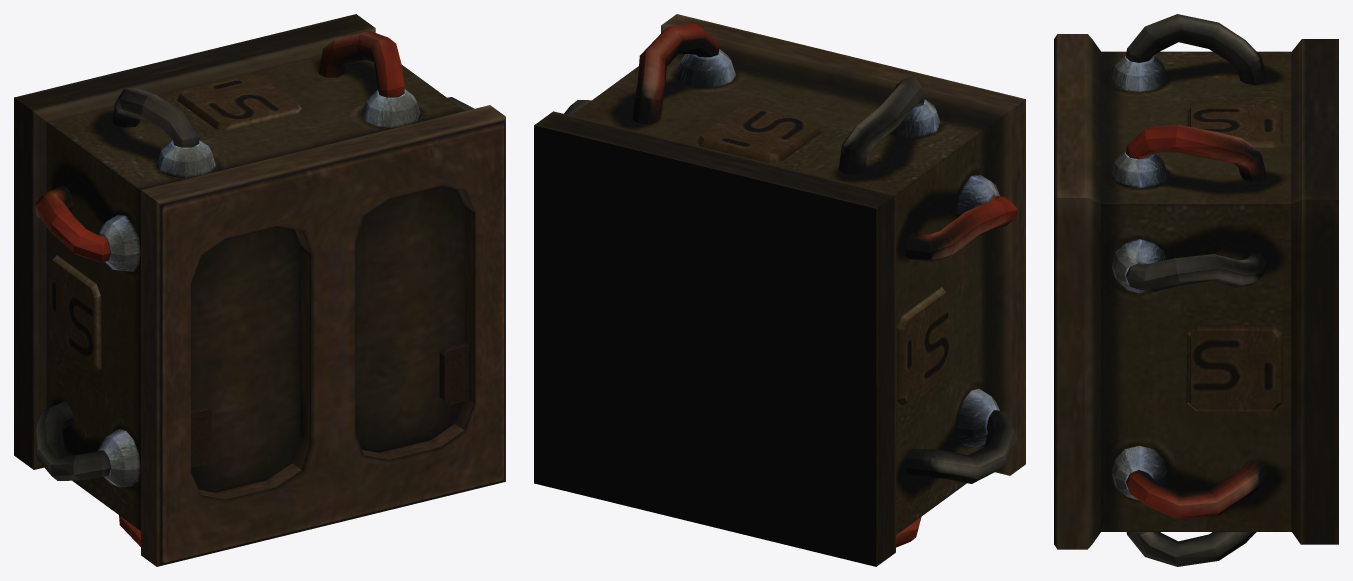
The model's file is b_batt0.obj.
The picture shows the model from 3 angles, left to right: view 1: azimuth 30°, elevation 25°; view 2: azimuth 150°, elevation 25°; view 3: azimuth 270°, elevation 25°; orthographic projection. The views are drawn at different scales.
Bounding box in the file's own units: 31.81 × 31.81 × 18.68.
Materials: 1 (1 with a texture image).
